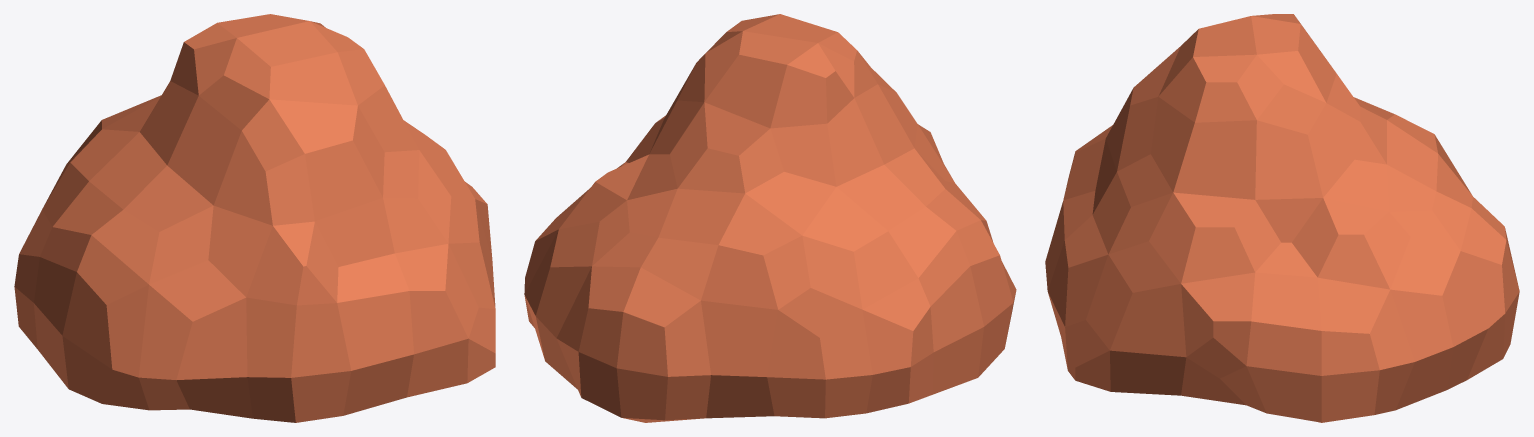
The model's file is Rock_V08.fbx.
3 renders of one model, left to right at view 1: azimuth 30°, elevation 25°; view 2: azimuth 150°, elevation 25°; view 3: azimuth 270°, elevation 25°, orthographic. The views are drawn at different scales.
Visible parts, largest first — view 1: Rock_V08; view 2: Rock_V08; view 3: Rock_V08.
Boxes of the visible parts, left/top/right/bottom form: Rock_V08: left=14, top=14, right=495, bottom=422; Rock_V08: left=524, top=14, right=1016, bottom=422; Rock_V08: left=1045, top=14, right=1519, bottom=422.
Size of the model in its own units: 531 by 407 by 537.
